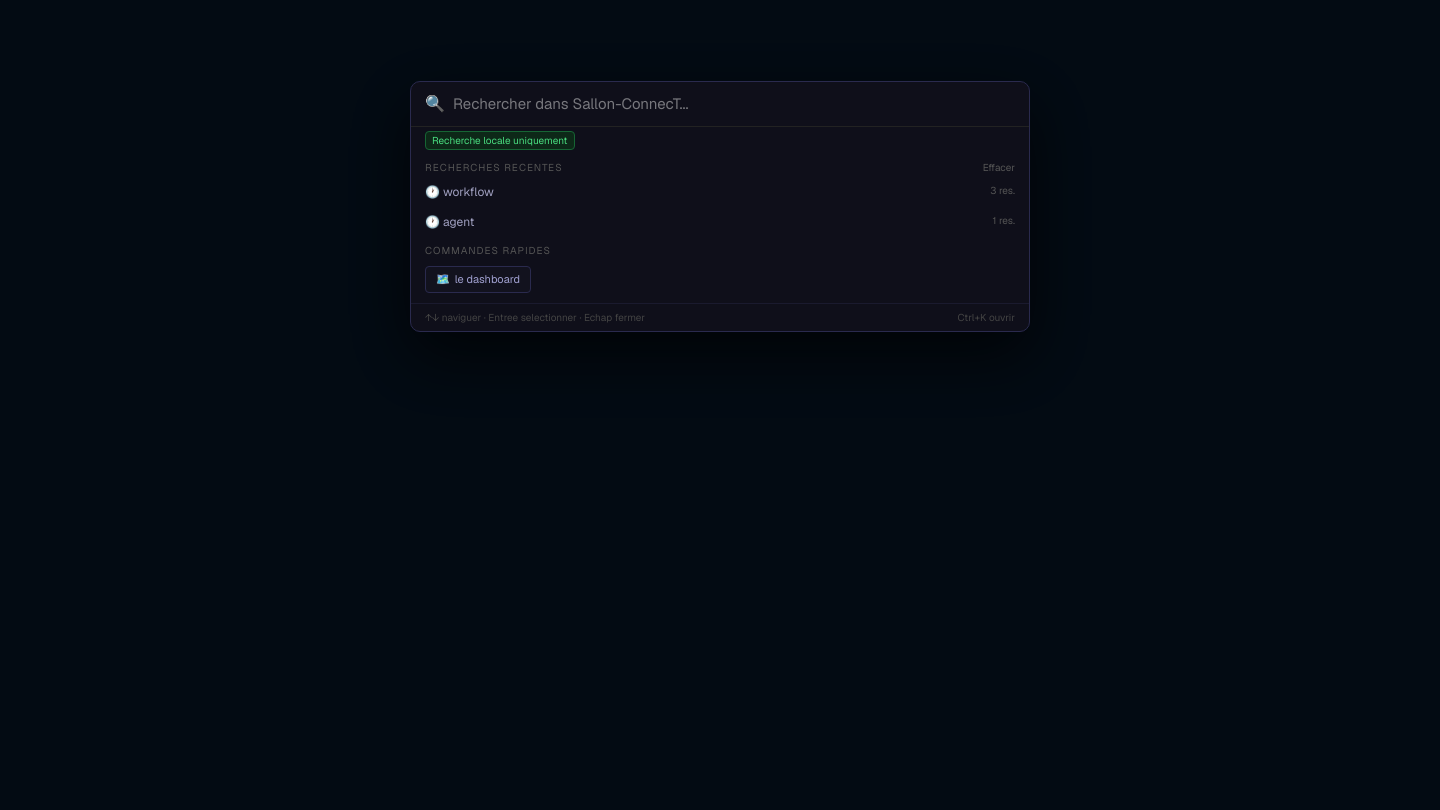
CommandCenterModal › appelle clearHistory depuis RecentSearches
What coordinates should you click on to do the following:
click the button "Effacer"
I would click on:
 (999, 168)
Its box is [983, 160, 1015, 175].
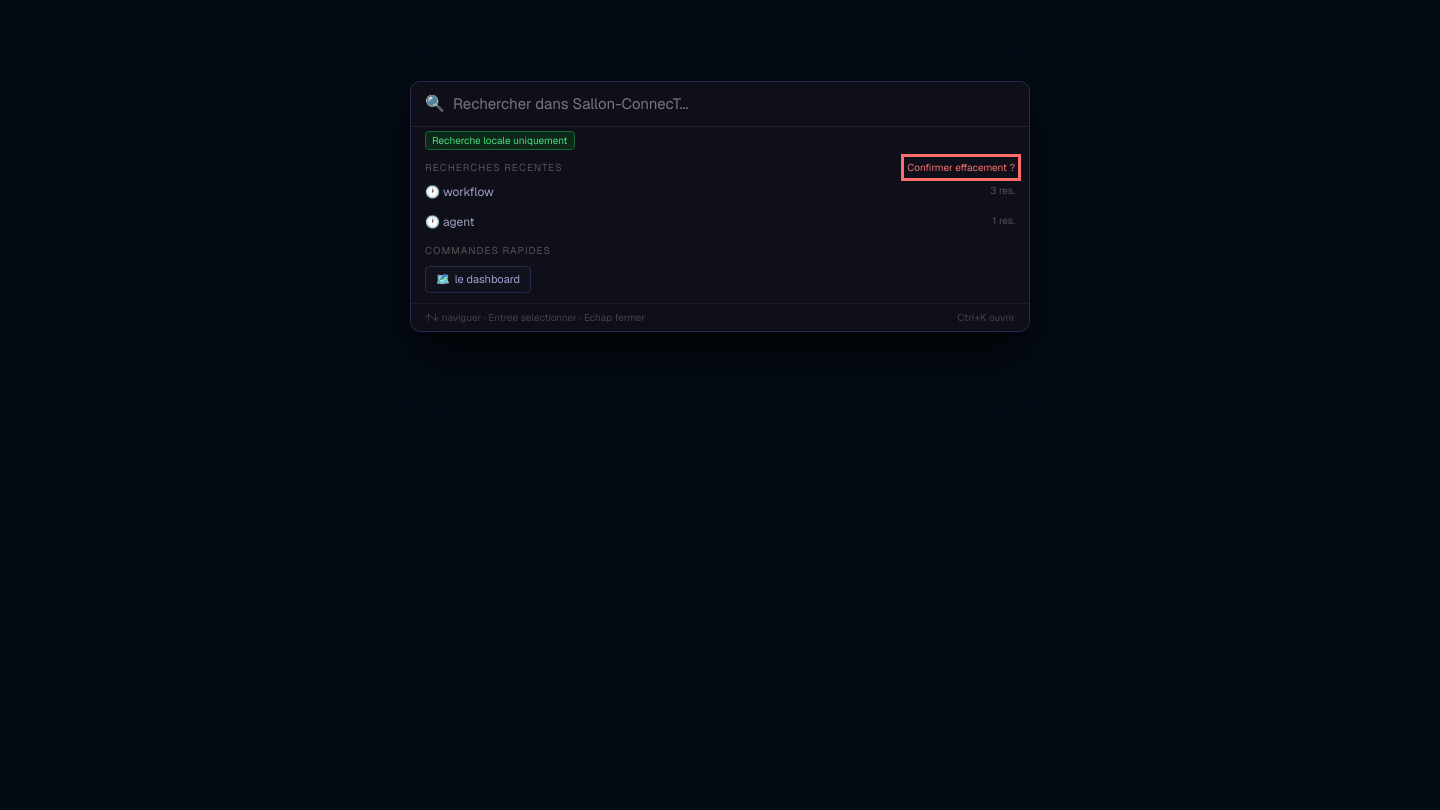
Check: the button "Confirmer effacement ?" is shown, box [907, 160, 1015, 175]
